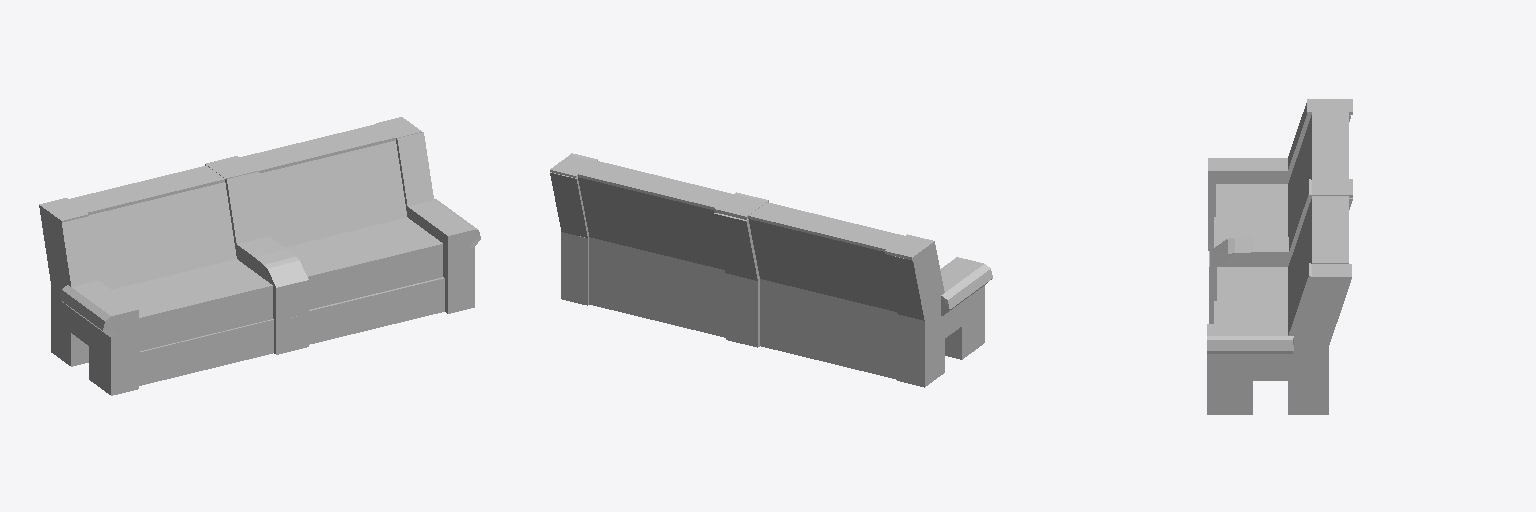
Rendered from couch.obj.
3 views of the same model, side by side, from view 1: azimuth 30°, elevation 25°; view 2: azimuth 150°, elevation 25°; view 3: azimuth 270°, elevation 25° (orthographic).
Parts seen in each view (by area): view 1: Cube; view 2: Cube; view 3: Cube.
Part boxes in pixels (x1,y1,x2,y2): Cube: (39,117,480,395); Cube: (550,153,992,387); Cube: (1207,99,1352,414).
Bounding box in the file's own units: 23.34 × 8.24 × 7.81.